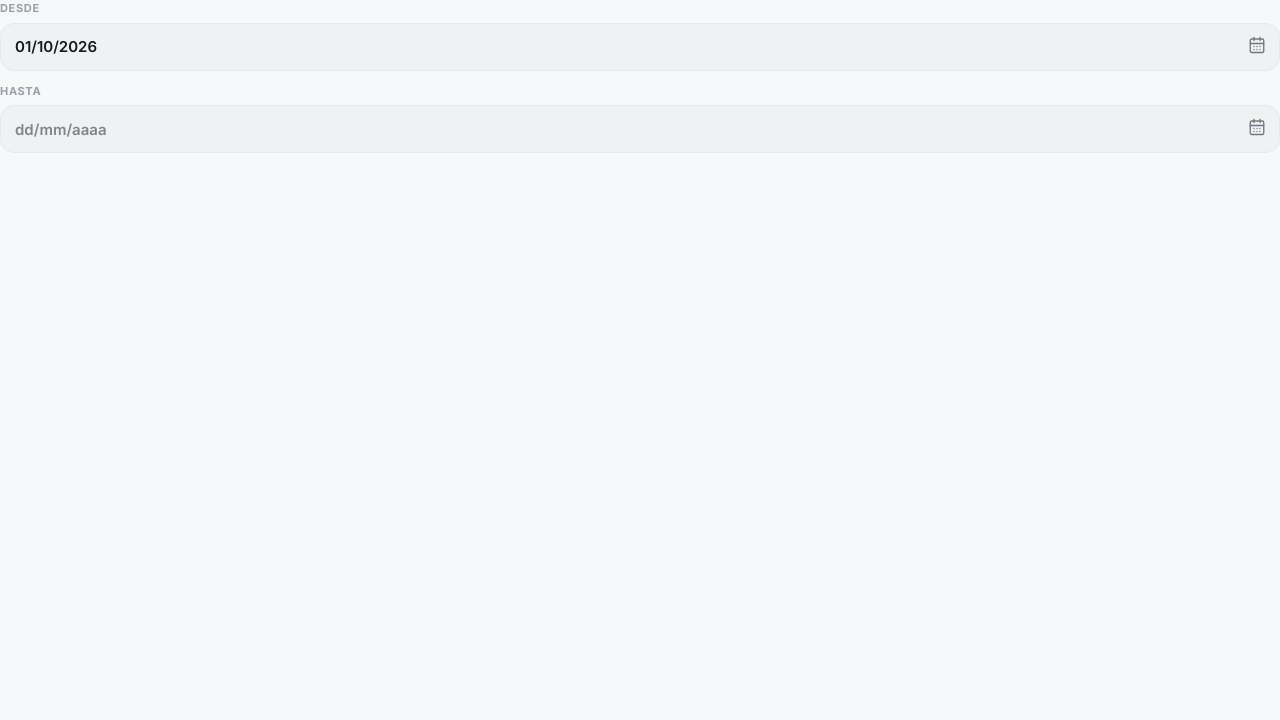
keeps the reports inline variant in the form and closes the previous picker
The width and height of the screenshot is (1280, 720).
Click the button named "Abrir calendario: desde".
click(1257, 44)  # box [1241,28,1273,60]
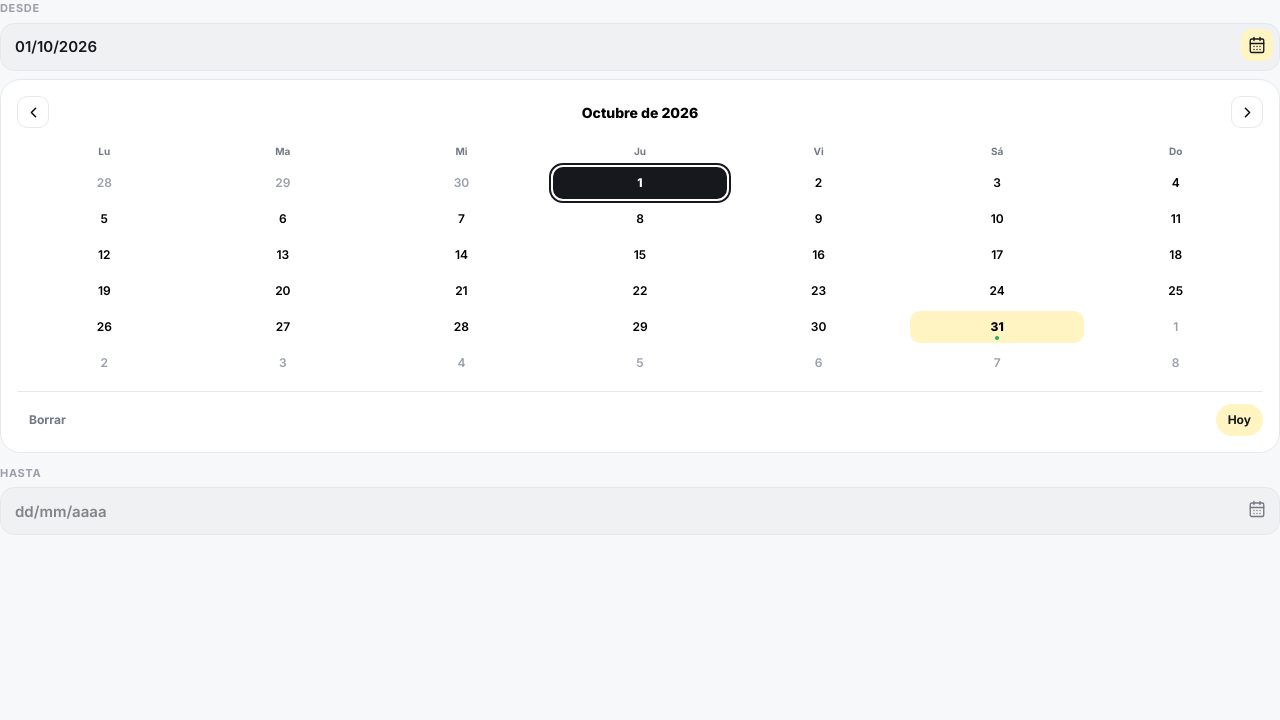
Click the button named "Abrir calendario: hasta".
click(1257, 509)  # box [1241,493,1273,525]
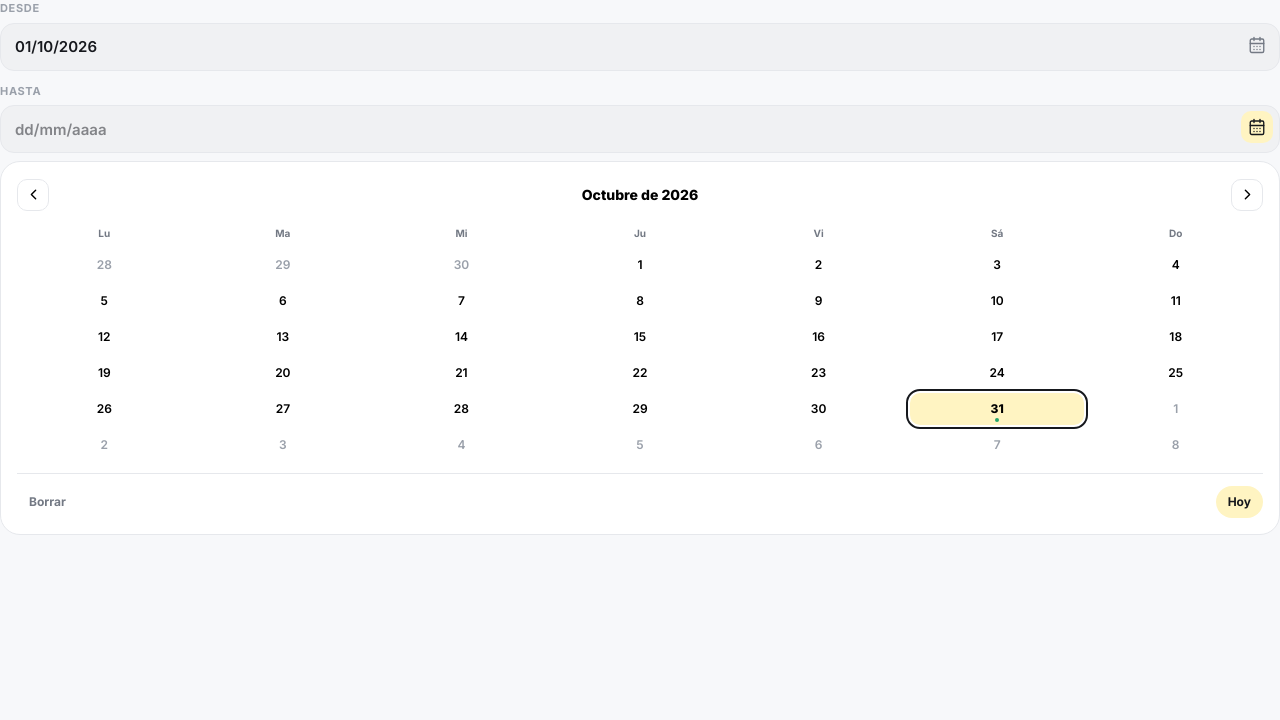
Check: the dialog named "Elegir hasta" is shown, box [17,178,1263,518]
